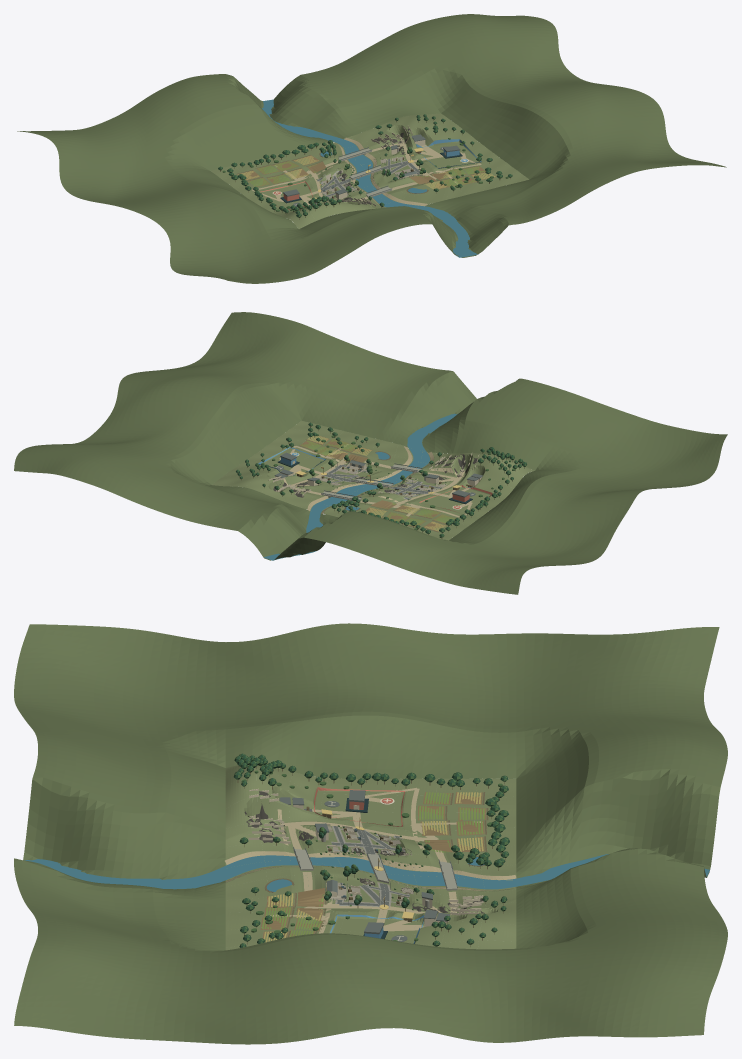
Rendered from QinglanValley.obj.
3 views of the same model, one above another, from view 1: azimuth 30°, elevation 25°; view 2: azimuth 150°, elevation 25°; view 3: azimuth 270°, elevation 25° (orthographic). The views are drawn at different scales.
Visible parts, largest first — view 1: landscape_GroundHigh, terrain_GroundLow, water_Water, environment_Forest, farmland_Soil, environment_ForestLight, routes_Road, farmland_FieldGreen, farmland_FieldGold, riverbanks_Bank, routes_Bridge, routes_Gravel; view 2: landscape_GroundHigh, terrain_GroundLow, environment_Forest, water_Water, routes_Road, farmland_Soil, environment_ForestLight, farmland_FieldGreen, farmland_FieldGold, routes_Bridge, routes_Gravel, riverbanks_Bank (+1 smaller); view 3: landscape_GroundHigh, terrain_GroundLow, water_Water, environment_Forest, routes_Road, farmland_Soil, environment_ForestLight, farmland_FieldGreen, riverbanks_Bank, routes_Bridge, farmland_FieldGold, village_Wall (+5 smaller).
Part boxes in pixels (x1,y1,x2,y2): landscape_GroundHigh: (17,14,726,283); terrain_GroundLow: (211,113,528,228); water_Water: (262,99,478,257); environment_Forest: (218,114,512,217); farmland_Soil: (237,155,496,189); environment_ForestLight: (218,114,511,217); routes_Road: (252,135,481,205); farmland_FieldGreen: (248,161,485,186); farmland_FieldGold: (238,156,495,188); riverbanks_Bank: (335,137,427,206); routes_Bridge: (323,148,419,197); routes_Gravel: (318,156,419,200); landscape_GroundHigh: (14,312,727,594); terrain_GroundLow: (212,420,534,540); environment_Forest: (236,422,526,537); water_Water: (264,413,457,560); routes_Road: (277,444,473,517); farmland_Soil: (300,436,455,531); environment_ForestLight: (236,423,526,537); farmland_FieldGreen: (301,439,454,526); farmland_FieldGold: (307,436,445,530); routes_Bridge: (321,464,439,501); routes_Gravel: (320,463,444,499); riverbanks_Bank: (307,446,433,513); landscape_GroundHigh: (14,623,727,1044); terrain_GroundLow: (225,764,516,950); water_Water: (24,854,709,889); environment_Forest: (233,753,509,947); routes_Road: (267,787,482,933); farmland_Soil: (260,792,485,938); environment_ForestLight: (234,754,508,947); farmland_FieldGreen: (262,792,484,936); riverbanks_Bank: (225,851,516,890); routes_Bridge: (293,826,457,906); farmland_FieldGold: (263,792,483,942); village_Wall: (248,788,483,915).
Size of the model in its own units: 825 by 61.19 by 590.
